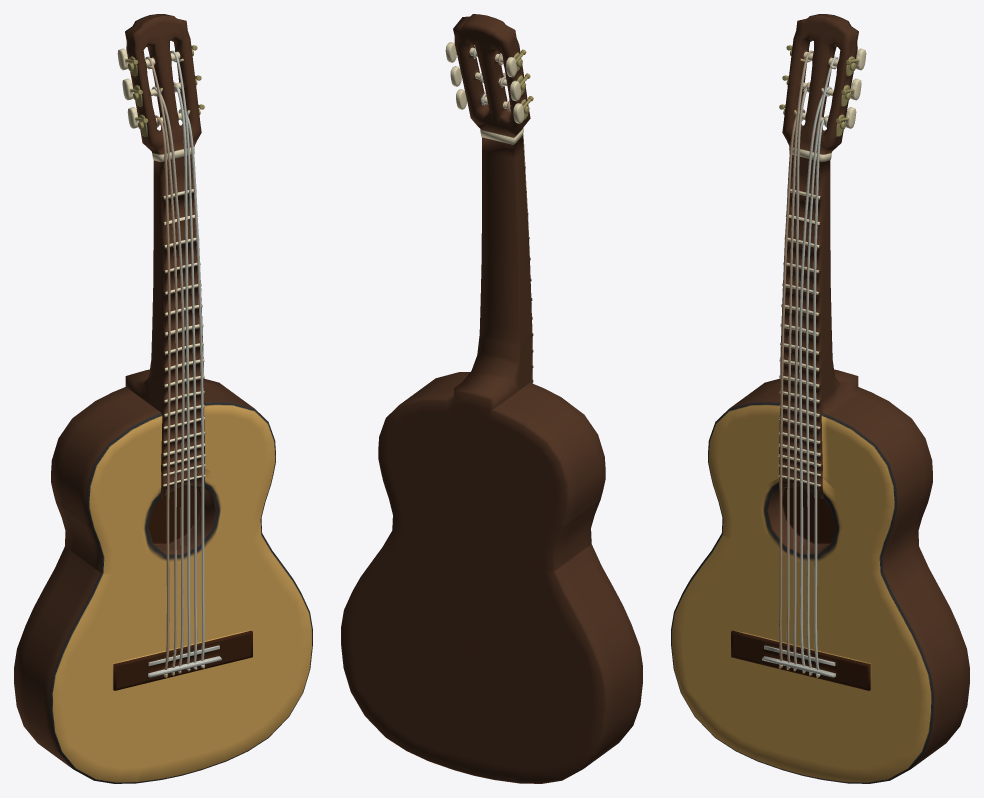
Rendered from GuitarraSegmentFinal.fbx.
The picture shows the model from 3 angles, left to right: view 1: azimuth 30°, elevation 25°; view 2: azimuth 150°, elevation 25°; view 3: azimuth 330°, elevation 25°; orthographic projection.
Visible parts, largest first — view 1: GuitarraCuts.001, GuitarraCuts.002, GuitarraCuts.003, GuitarraCuts, GuitarraCuts.005, GuitarraSliced.001; view 2: GuitarraCuts.001, GuitarraCuts.002, GuitarraCuts.003, GuitarraCuts, GuitarraSliced.001, GuitarraCuts.005; view 3: GuitarraCuts.001, GuitarraCuts, GuitarraCuts.003, GuitarraCuts.002, GuitarraCuts.005, GuitarraSliced.001.
Part boxes in pixels (x1=…): GuitarraCuts.001: x1=137, y1=556, x2=312, y2=783; GuitarraCuts.002: x1=14, y1=547, x2=147, y2=783; GuitarraCuts.003: x1=56, y1=466, x2=276, y2=638; GuitarraCuts: x1=125, y1=218, x2=275, y2=477; GuitarraCuts.005: x1=117, y1=14, x2=204, y2=225; GuitarraSliced.001: x1=51, y1=387, x2=162, y2=528; GuitarraCuts.001: x1=341, y1=554, x2=518, y2=783; GuitarraCuts.002: x1=507, y1=544, x2=642, y2=783; GuitarraCuts.003: x1=377, y1=462, x2=600, y2=637; GuitarraCuts: x1=378, y1=193, x2=533, y2=472; GuitarraSliced.001: x1=489, y1=382, x2=605, y2=525; GuitarraCuts.005: x1=445, y1=14, x2=533, y2=203; GuitarraCuts.001: x1=757, y1=577, x2=969, y2=783; GuitarraCuts: x1=778, y1=218, x2=932, y2=519; GuitarraCuts.003: x1=713, y1=466, x2=933, y2=624; GuitarraCuts.002: x1=671, y1=533, x2=767, y2=760; GuitarraCuts.005: x1=779, y1=14, x2=866, y2=225; GuitarraSliced.001: x1=708, y1=378, x2=780, y2=485.
Size of the model in its own units: 35.24 by 9.73 by 95.04.
Materials: 1 (1 with a texture image).
